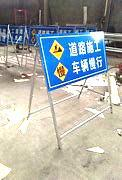sign: (41, 35, 108, 77)
